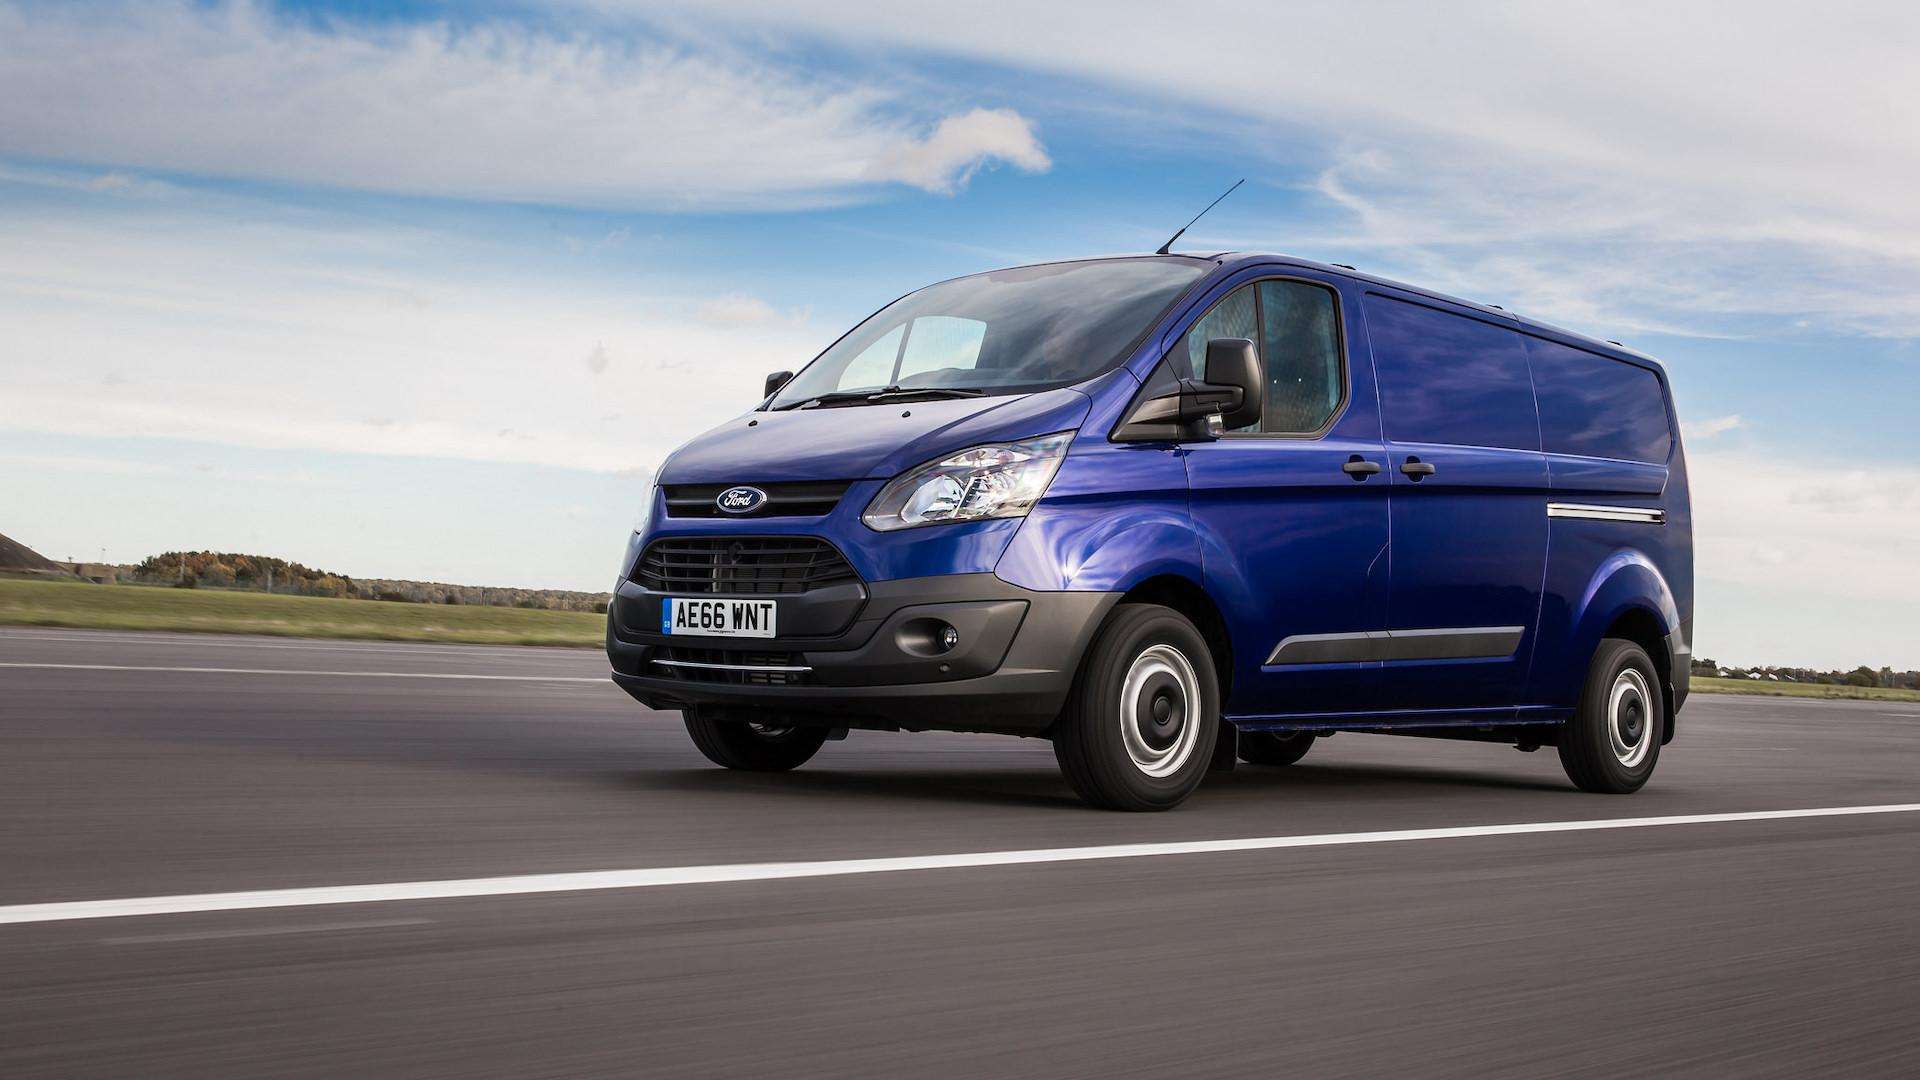van: (607, 248, 1692, 814)
